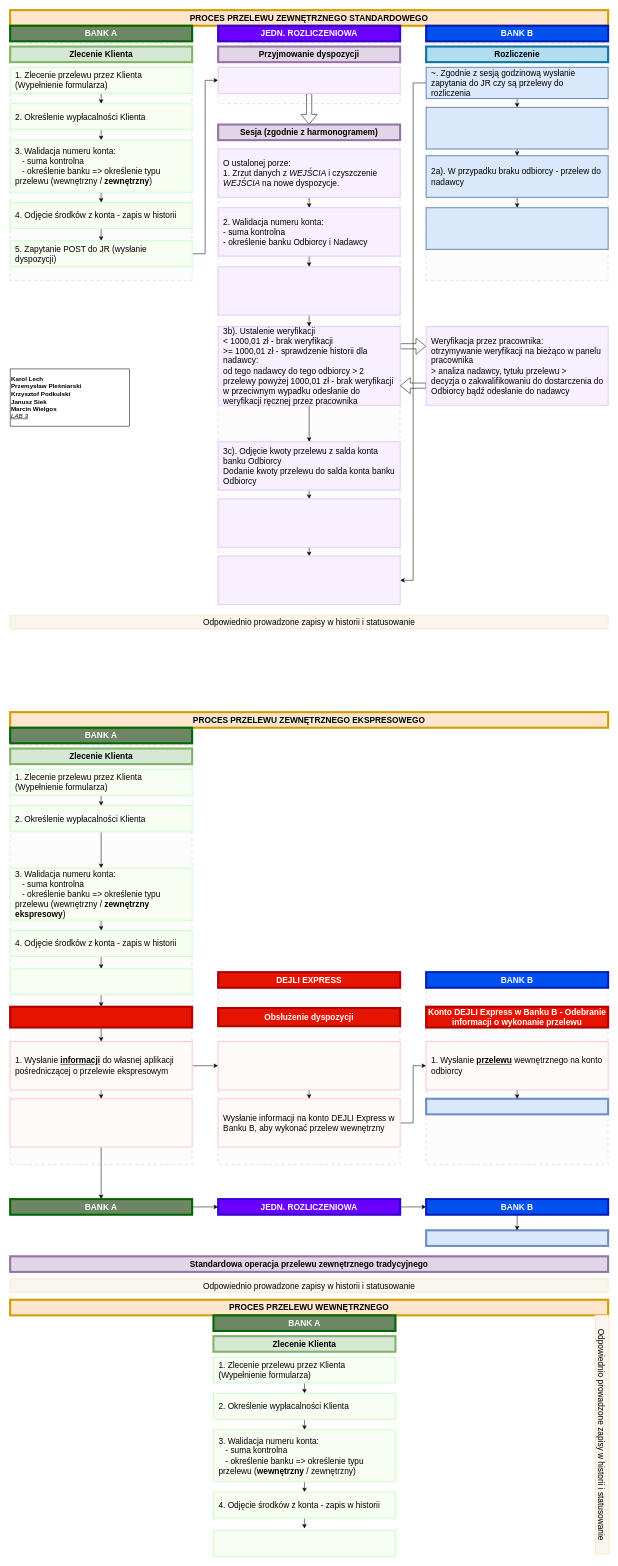
Some shapes in this 618 by 1566 pixel diagram are drawn without their labels. The centre of each missing label's shape, as x and y in pixels:
1. Walidacja numeru konta: - suma kontrolna - odnalezienie odbiorcy: the point at 516,128
2. Wysłanie przelewu tradycyjnego na własne konto w Banku B: the point at 100,1122
2b) Uznanie na koncie Odbiorcy: the point at 516,228
3a). W przypadku braku banku Odbiorczego przejście do kroku 4: the point at 308,290
4. Wygenerowanie odpowiednich wpisów w historii JR: the point at 308,523
5. Przelew wewnętrzny na konto DEJLI EXPRESS w Banku A: the point at 100,981
5. Uznanie na koncie odbiorcy: the point at 304,1543
5. WYJŚCIE : Udostępnienie informacji o rozliczonych przelewach: the point at 308,580
Konto DEJLI Express w Banku A - Odebranie przelewu wewnętrznego: the point at 101,1016
Przyjęcie informacji o przelewie: the point at 308,1065
Standardowe rozliczenie: the point at 517,1238
Standardowe rozliczenie na koncie odbiorcy: the point at 517,1106
~. Przyjęcie zapytania z danymi o przelewie. Zapis na WEJŚCIU: the point at 308,80
